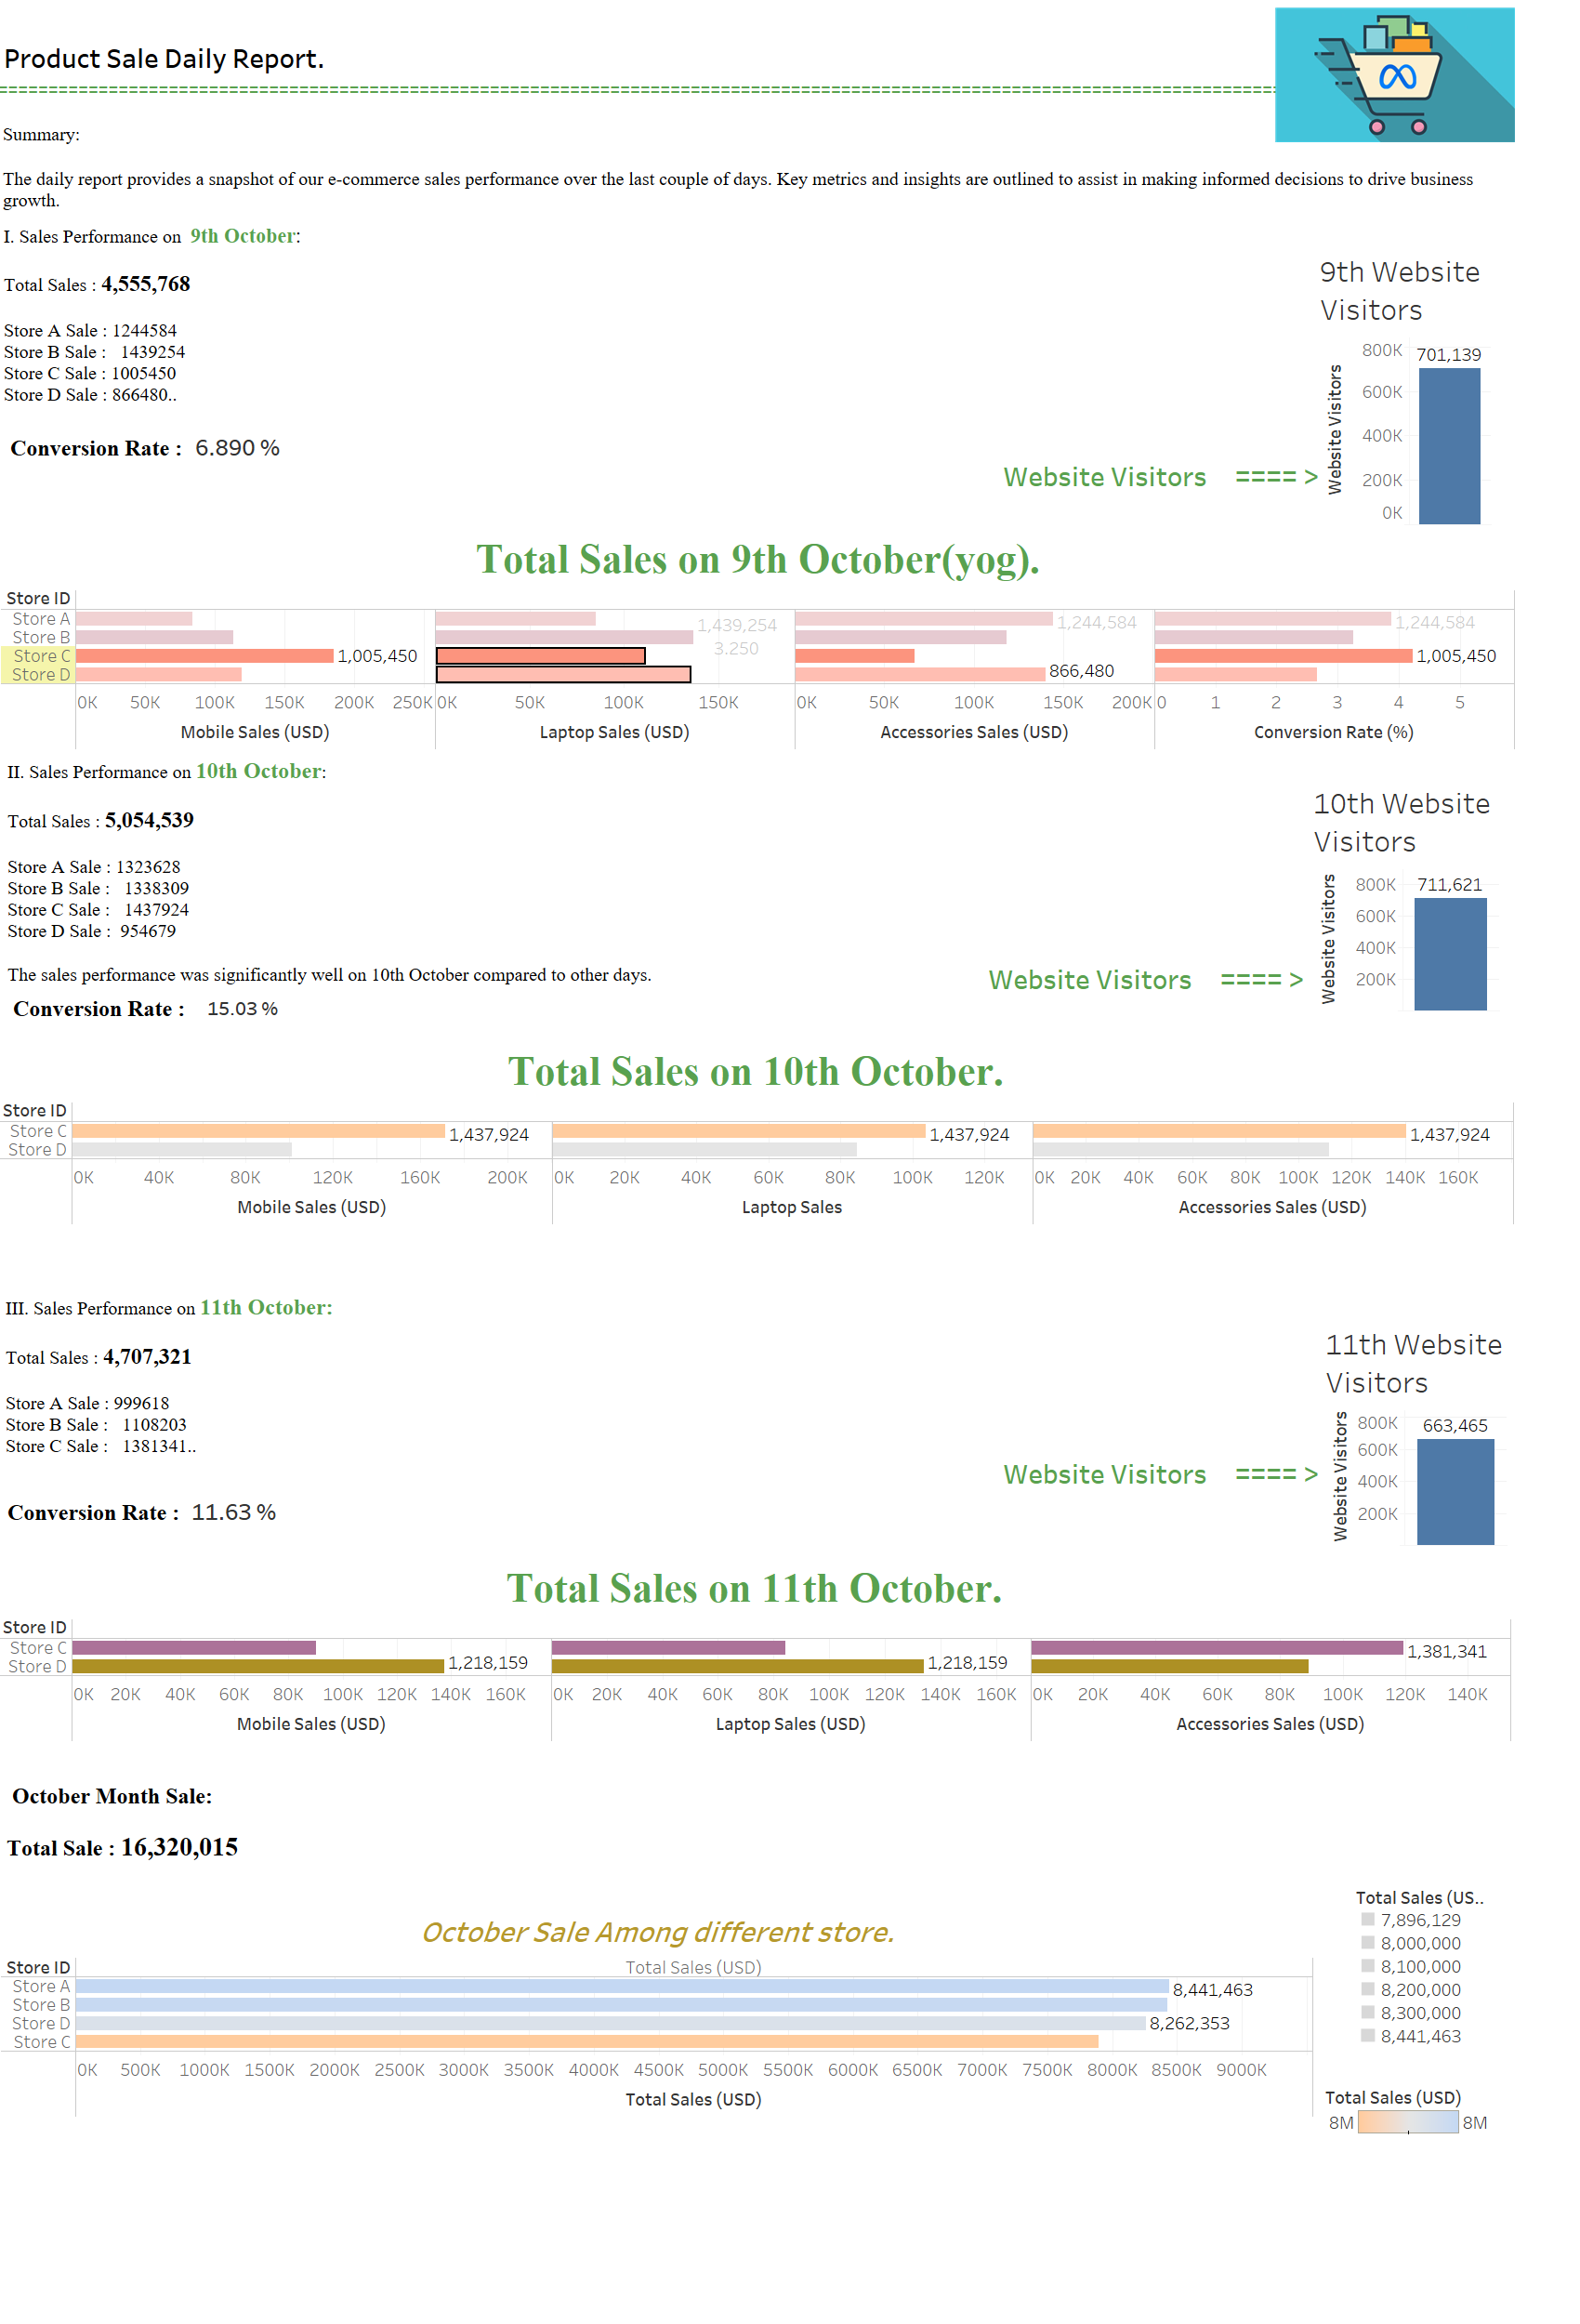

The page's visual inventory and layout, read from the dashboard file:
{"tool":"tableau","page":{"name":"Dashboard 1","canvas":[1700,2500],"ordinal":0},"visuals":[{"type":"image","param":"Image/meta-promo-ads-advertisers-2024-640x360.jpg","box":[1372,8,258,148]},{"type":"text","box":[0,13,376,98]},{"type":"text","box":[0,233,505,213]},{"type":"worksheet","title":"9th Website Visitors","mark":"Bar","rows":["Website Visitors"],"box":[1416,264,188,300]},{"type":"worksheet","title":"Conversion Rate on 9th October:","mark":"Automatic","box":[206,449,151,78]},{"type":"text","box":[7,467,244,31]},{"type":"text","box":[1075,492,348,39]},{"type":"worksheet","title":"9th Oct","mark":"Automatic","rows":["StoreID"],"cols":["Product A Sales (USD)","Product B Sales (USD)","Product C Sales (USD)","Conversion Rate (%)"],"box":[1,571,1632,259]},{"type":"text","box":[4,816,749,246]},{"type":"worksheet","title":"10th Website Visitors","mark":"Automatic","rows":["Website Visitors"],"box":[1409,836,204,251]},{"type":"text","box":[1059,1024,363,58]},{"type":"worksheet","title":"Conversion Rate on 10th October:","mark":"Automatic","box":[204,1056,121,53]},{"type":"text","box":[10,1070,244,31]},{"type":"text","box":[2,1384,374,193]},{"type":"worksheet","title":"11th Website Visitors","mark":"Automatic","rows":["Website Visitors"],"box":[1422,1418,199,244]},{"type":"text","box":[1075,1565,348,39]},{"type":"worksheet","title":"Conversion Rate on 11th October:","mark":"Automatic","box":[202,1594,182,140]},{"type":"text","box":[4,1612,244,31]},{"type":"text","box":[3,1901,363,119]},{"type":"legend","title":"Oct Total Sale","param":"[federated.1d62w8w05rflgz1gjkh8v0o9fn3d].[sum:Total Sales (USD):qk]","box":[1458,2026,140,176]},{"type":"worksheet","title":"Oct Total Sale","mark":"Automatic","rows":["StoreID"],"cols":["Total Sales (USD)"],"box":[1,2050,1412,300]},{"type":"legend","title":"Oct Total Sale","param":"[federated.1d62w8w05rflgz1gjkh8v0o9fn3d].[sum:Total Sales (USD):qk]","box":[1426,2239,180,100]}]}

Visuals, with their boxes in screenshot pixels (x1, y1, x2, y2), scaled from the page's 1700x2500 canvas onto the 1580x2324 screenshot:
image: [left=1275, top=7, right=1515, bottom=145]
text: [left=0, top=12, right=349, bottom=103]
text: [left=0, top=217, right=469, bottom=415]
"9th Website Visitors" worksheet (Bar marks): [left=1316, top=245, right=1491, bottom=524]
"Conversion Rate on 9th October:" worksheet: [left=191, top=417, right=332, bottom=490]
text: [left=7, top=434, right=233, bottom=463]
text: [left=999, top=457, right=1323, bottom=494]
"9th Oct" worksheet: [left=1, top=531, right=1518, bottom=772]
text: [left=4, top=759, right=700, bottom=987]
"10th Website Visitors" worksheet: [left=1310, top=777, right=1499, bottom=1010]
text: [left=984, top=952, right=1322, bottom=1006]
"Conversion Rate on 10th October:" worksheet: [left=190, top=982, right=302, bottom=1031]
text: [left=9, top=995, right=236, bottom=1023]
text: [left=2, top=1287, right=349, bottom=1466]
"11th Website Visitors" worksheet: [left=1322, top=1318, right=1507, bottom=1545]
text: [left=999, top=1455, right=1323, bottom=1491]
"Conversion Rate on 11th October:" worksheet: [left=188, top=1482, right=357, bottom=1612]
text: [left=4, top=1499, right=230, bottom=1527]
text: [left=3, top=1767, right=340, bottom=1878]
"Oct Total Sale" legend: [left=1355, top=1883, right=1485, bottom=2047]
"Oct Total Sale" worksheet: [left=1, top=1906, right=1313, bottom=2185]
"Oct Total Sale" legend: [left=1325, top=2081, right=1493, bottom=2174]
